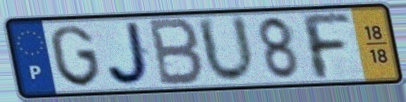8: (256, 15, 304, 82)
B: (147, 16, 206, 88)
F: (295, 12, 355, 82)
G: (47, 23, 104, 89)
J: (104, 19, 154, 88)
U: (194, 13, 259, 87)
